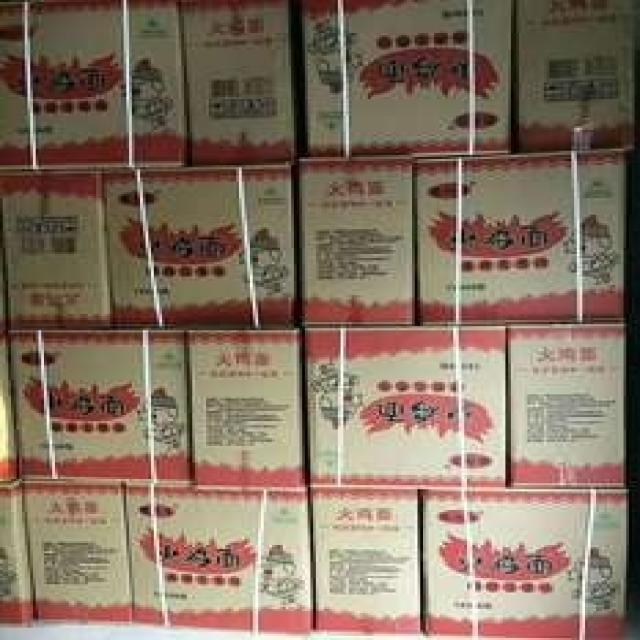box: (415, 145, 630, 325), (296, 1, 517, 157), (305, 325, 505, 484), (106, 163, 296, 328), (2, 2, 190, 168), (425, 487, 625, 636), (127, 481, 315, 633), (11, 331, 192, 484), (295, 156, 416, 326), (177, 1, 299, 163), (509, 324, 625, 487), (186, 328, 303, 486), (517, 1, 637, 150), (4, 168, 112, 329), (312, 486, 425, 635), (20, 481, 133, 624), (1, 482, 34, 627), (0, 328, 20, 483)
